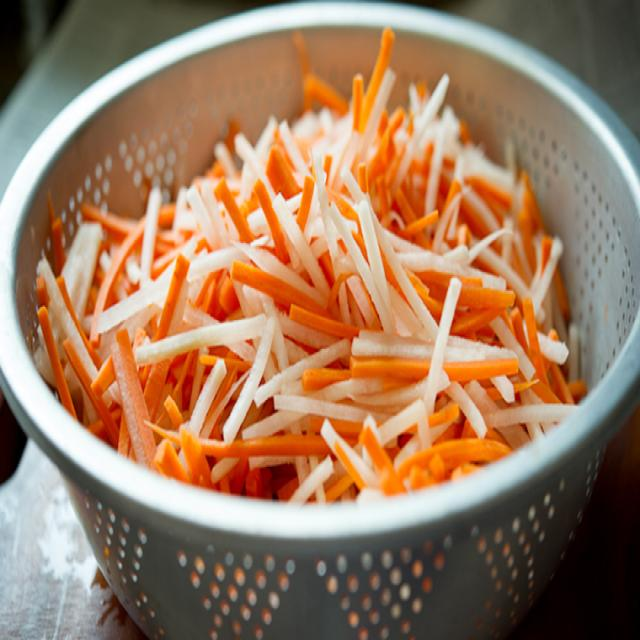do chua: (59, 29, 585, 503)
